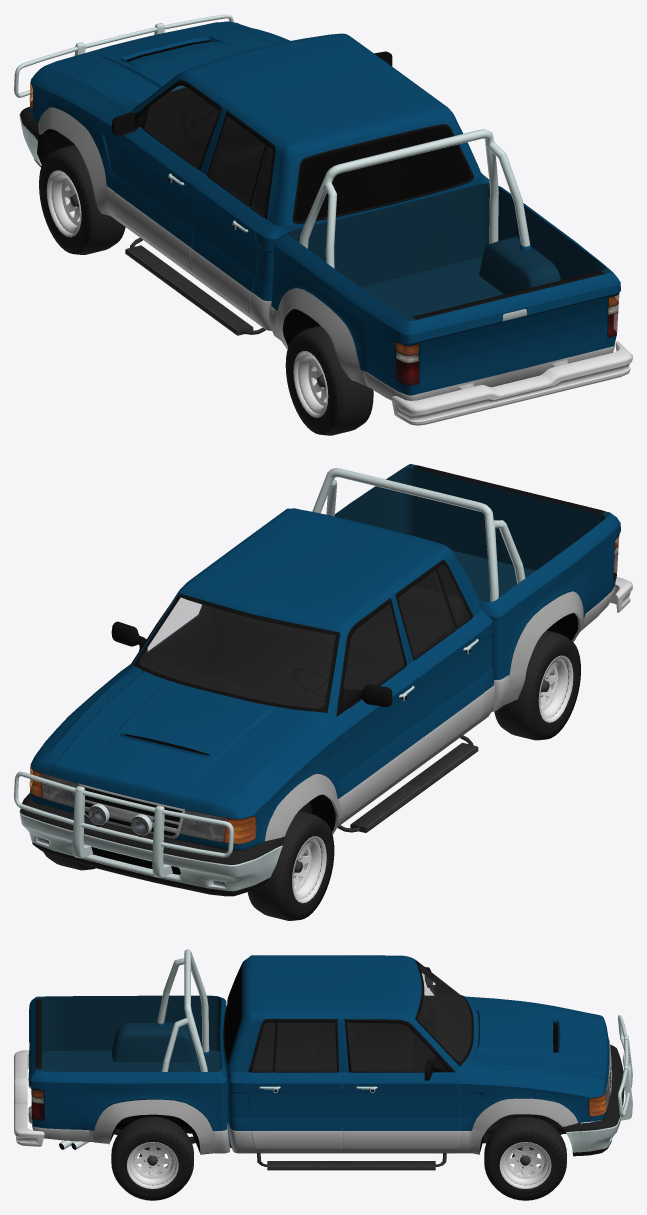
The model's file is pickup_jp.glb.
3 renders of one model, top to bottom at view 1: azimuth 30°, elevation 25°; view 2: azimuth 150°, elevation 25°; view 3: azimuth 270°, elevation 25°, orthographic. The views are drawn at different scales.
Visible parts, largest first — view 1: body, wheel_RL, wheel_FL; view 2: body, wheel_FL, wheel_RL; view 3: body, wheel_RR, wheel_FR.
Boxes of the visible parts, <box> form: body: <box>14,14,632,435</box>; wheel_RL: <box>243,309,337,434</box>; wheel_FL: <box>39,153,142,253</box>; body: <box>14,464,632,920</box>; wheel_FL: <box>282,794,360,919</box>; wheel_RL: <box>460,613,580,744</box>; body: <box>14,949,632,1187</box>; wheel_RR: <box>59,1129,267,1200</box>; wheel_FR: <box>435,1129,564,1200</box>.
Size of the model in its own units: 1.84 by 1.52 by 4.7.
18 materials, 7 textured.
